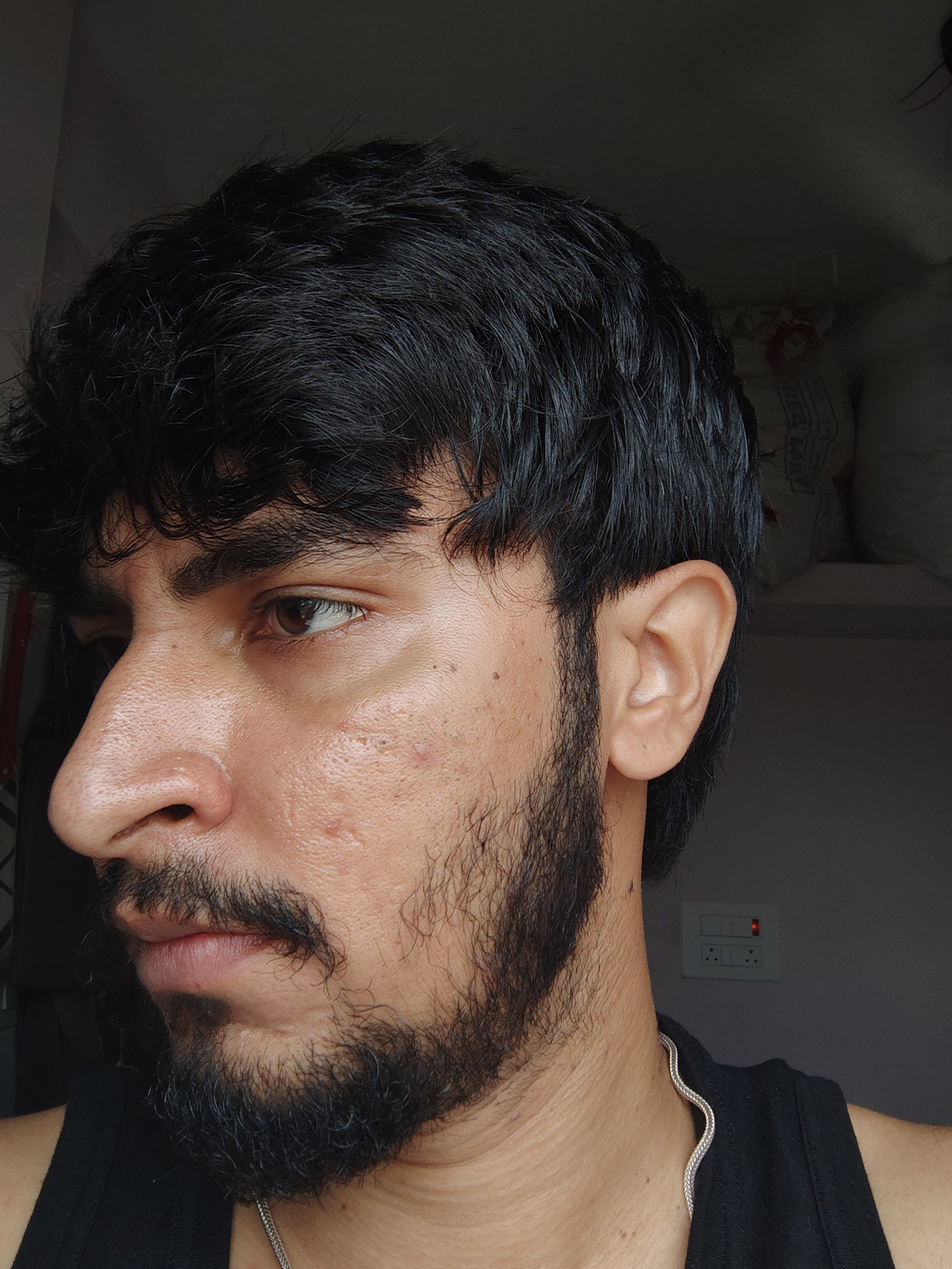papule: (414, 745, 433, 765), (327, 822, 340, 833)
